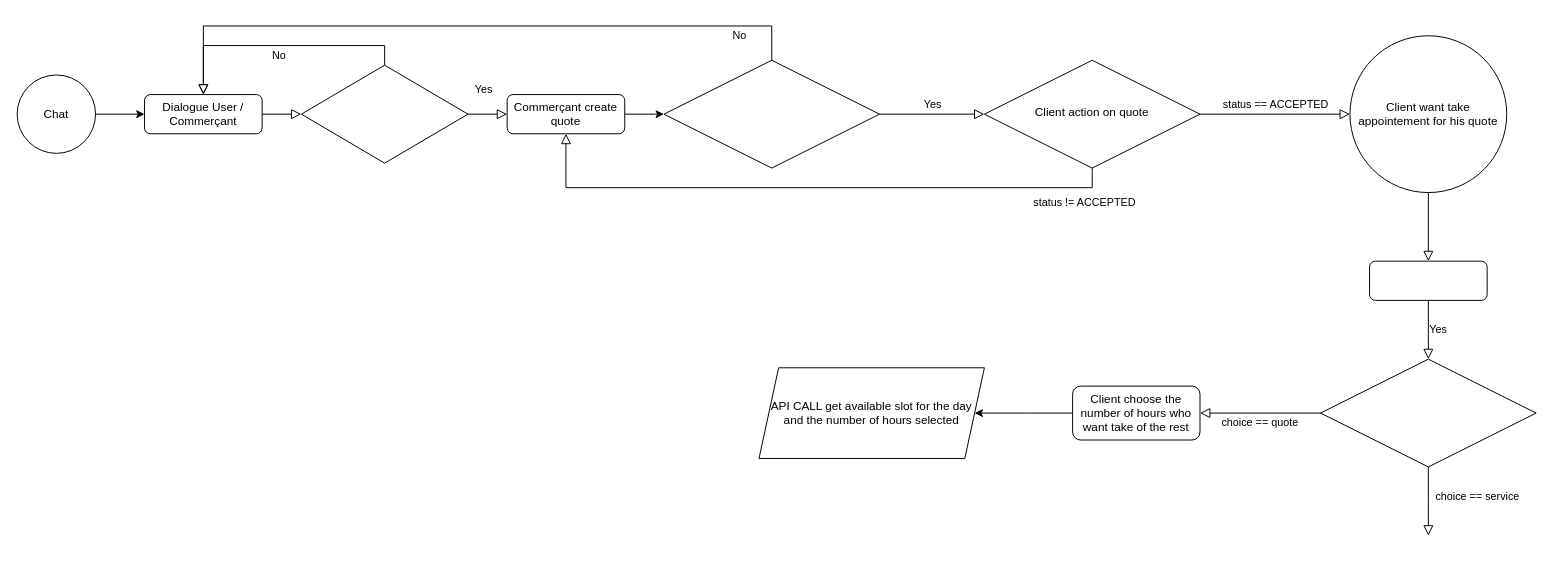
Image size: 1553x563. Some labels were removed from this diagram. The shapes that lost their labels are listed below. From the top down, each one's box as (x1, y1, x2, y2) in pixels, then its label:
(300, 64, 468, 163): user explain his need
(663, 59, 880, 168): Commerçant provides quote
(1369, 260, 1487, 300): Search shop and click on "take RDV"
(1320, 358, 1536, 467): choice
